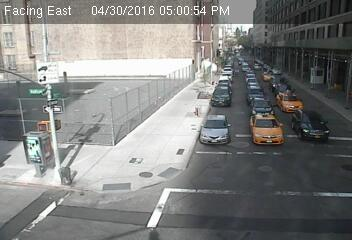neg: (9, 122, 48, 174), (95, 183, 124, 222), (293, 132, 320, 168), (175, 179, 202, 215), (161, 56, 187, 90), (9, 188, 35, 222), (246, 83, 271, 117), (106, 94, 130, 126), (234, 170, 258, 202), (130, 153, 154, 184), (77, 39, 100, 71), (291, 67, 313, 97), (207, 105, 228, 132), (74, 102, 94, 129), (242, 46, 260, 69), (177, 139, 194, 161), (72, 195, 86, 215)
